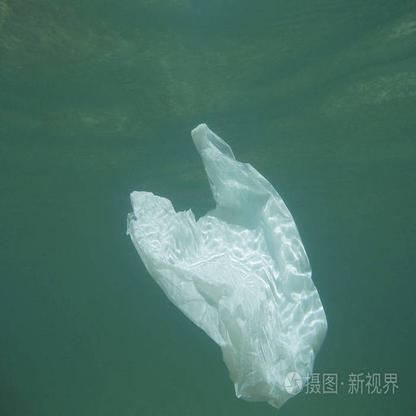plastic bag: (124, 124, 328, 406)
